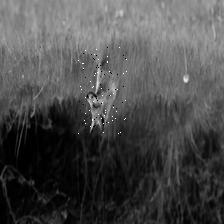fox: (78, 46, 128, 135)
